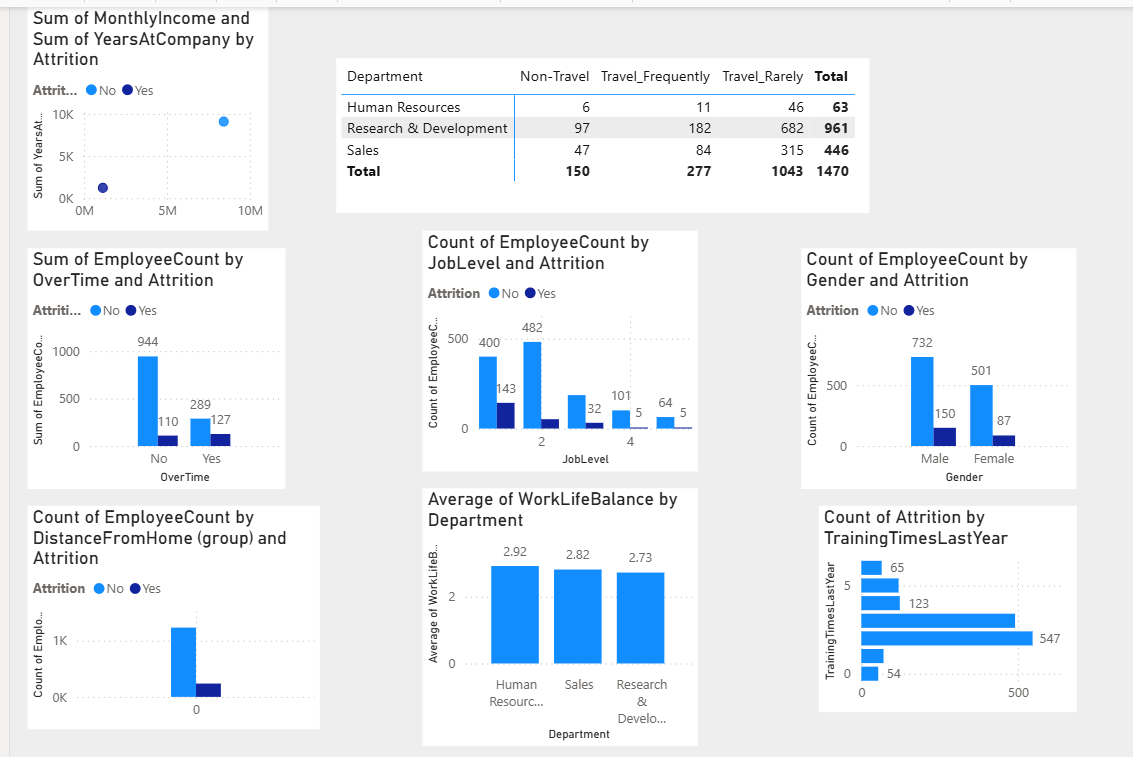

The dashboard page shown, as its layout file describes it:
{"tool":"powerbi","page":{"name":"Advanced Insights","canvas":[1280,720],"ordinal":7},"visuals":[{"type":"scatterChart","fields":{"X":["Sum(HRdata.MonthlyIncome)"],"Y":["Sum(HRdata.YearsAtCompany)"],"Series":["HRdata.Attrition"]},"box":[16,0,224,208],"z":0},{"type":"clusteredColumnChart","fields":{"Category":["HRdata.OverTime"],"Y":["Sum(HRdata.EmployeeCount)"],"Series":["HRdata.Attrition"]},"box":[16,224,240,224],"z":1000},{"type":"clusteredColumnChart","fields":{"Category":["HRdata.JobLevel"],"Y":["CountNonNull(HRdata.EmployeeCount)"],"Series":["HRdata.Attrition"]},"box":[384,208,256,224],"z":2000},{"type":"clusteredColumnChart","fields":{"Category":["HRdata.Gender"],"Y":["CountNonNull(HRdata.EmployeeCount)"],"Series":["HRdata.Attrition"]},"box":[736,224,256,224],"z":3000},{"type":"clusteredColumnChart","fields":{"Category":["HRdata.DistanceFromHome (group)"],"Y":["CountNonNull(HRdata.EmployeeCount)"],"Series":["HRdata.Attrition"]},"box":[16,464,272,208],"z":4000},{"type":"pivotTable","fields":{"Rows":["HRdata.Department"],"Columns":["HRdata.BusinessTravel"],"Values":["CountNonNull(HRdata.EmployeeCount)"]},"box":[304,48,496,144],"z":5000},{"type":"clusteredColumnChart","fields":{"Category":["HRdata.Department"],"Y":["Avg(HRdata.WorkLifeBalance)"]},"box":[384,448,256,240],"z":6000},{"type":"clusteredBarChart","fields":{"Y":["CountNonNull(HRdata.Attrition)"],"Category":["HRdata.TrainingTimesLastYear"]},"box":[752,464,240,192],"z":7000}]}

Visuals, with their boxes on the page's 1280x720 design canvas (x1, y1, x2, y2). These are canvas units, not pixel positions in the 1133x757 screenshot, which may show the page scaled, cropped or inside an application window:
scatterChart - Sum(HRdata.MonthlyIncome) x Sum(HRdata.YearsAtCompany): <box>16,0,240,208</box>
clusteredColumnChart - HRdata.OverTime x Sum(HRdata.EmployeeCount): <box>16,224,256,448</box>
clusteredColumnChart - HRdata.JobLevel x CountNonNull(HRdata.EmployeeCount): <box>384,208,640,432</box>
clusteredColumnChart - HRdata.Gender x CountNonNull(HRdata.EmployeeCount): <box>736,224,992,448</box>
clusteredColumnChart - HRdata.DistanceFromHome (group) x CountNonNull(HRdata.EmployeeCount): <box>16,464,288,672</box>
pivotTable - HRdata.Department x HRdata.BusinessTravel: <box>304,48,800,192</box>
clusteredColumnChart - HRdata.Department x Avg(HRdata.WorkLifeBalance): <box>384,448,640,688</box>
clusteredBarChart - CountNonNull(HRdata.Attrition) x HRdata.TrainingTimesLastYear: <box>752,464,992,656</box>
